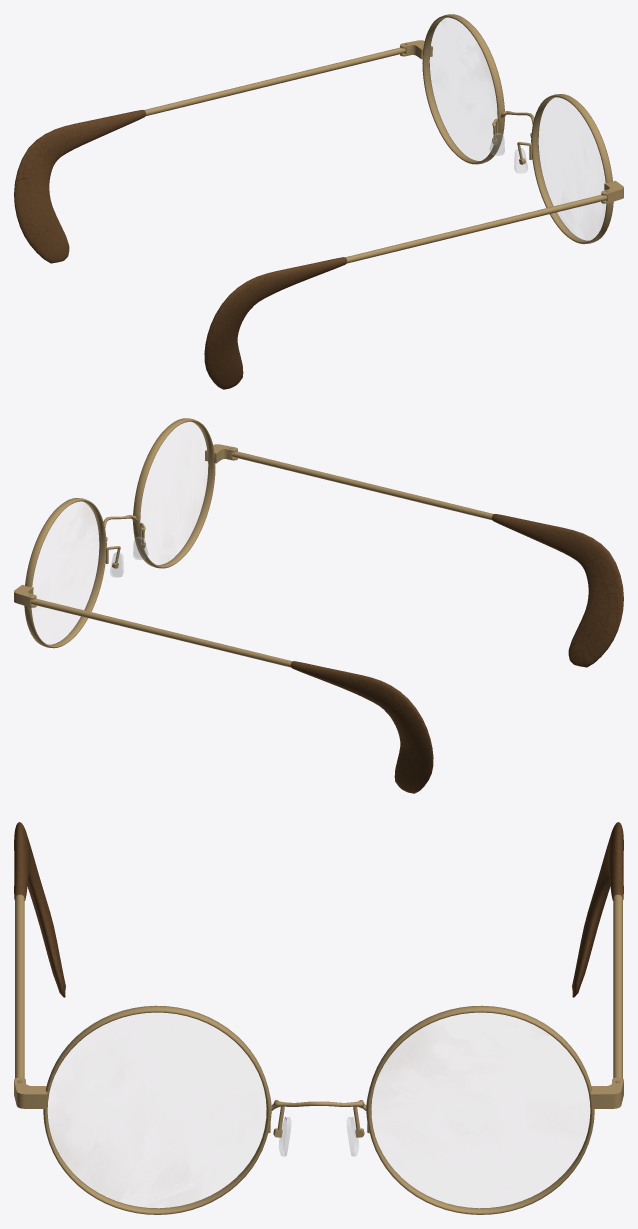
3 renders of one model, top to bottom at view 1: azimuth 30°, elevation 25°; view 2: azimuth 150°, elevation 25°; view 3: azimuth 270°, elevation 25°, orthographic. The views are drawn at different scales.
Visible parts, largest first — view 1: unidentified-circle; view 2: unidentified-circle; view 3: unidentified-circle.
Boxes of the visible parts, <box> form: unidentified-circle: <box>14,14,623,389</box>; unidentified-circle: <box>14,418,623,793</box>; unidentified-circle: <box>14,822,623,1214</box>.
Bounding box in the file's own units: 0.78 × 0.3074 × 0.656.
Materials: 1 (1 with a texture image).
